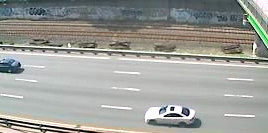car: (142, 103, 197, 128)
